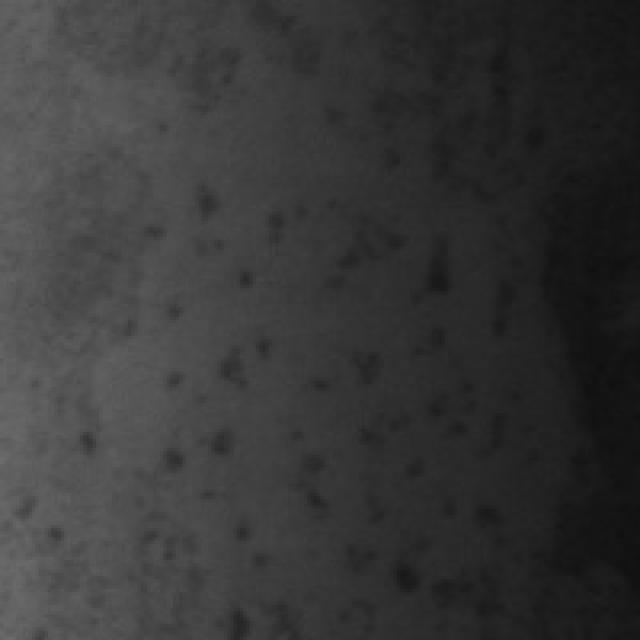pitted_surface: (92, 13, 506, 611)
